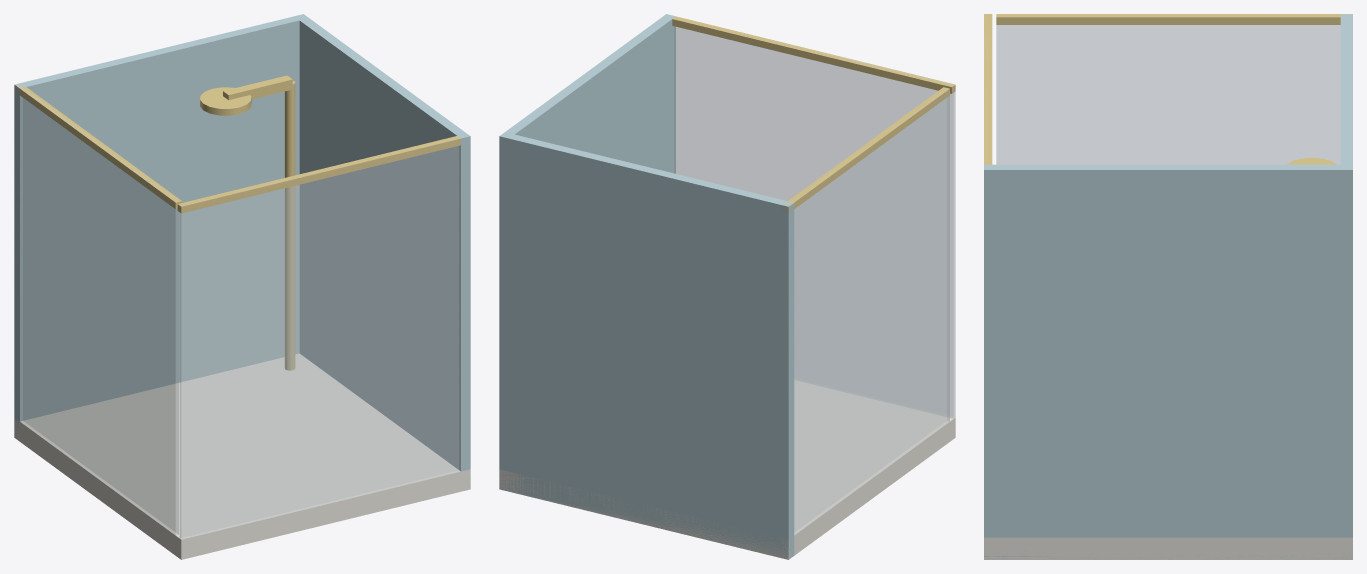
The model's file is bb_set_shower.fbx.
3 views of the same model, side by side, from view 1: azimuth 30°, elevation 25°; view 2: azimuth 150°, elevation 25°; view 3: azimuth 270°, elevation 25° (orthographic). The views are drawn at different scales.
Visible parts, largest first — view 1: bb_set_shower; view 2: bb_set_shower; view 3: bb_set_shower.
Boxes of the visible parts, x1=… form: bb_set_shower: x1=14, y1=14, x2=470, y2=559; bb_set_shower: x1=499, y1=14, x2=955, y2=559; bb_set_shower: x1=984, y1=14, x2=1352, y2=559.
Bounding box in the file's own units: 0.9 × 1.05 × 0.9.
